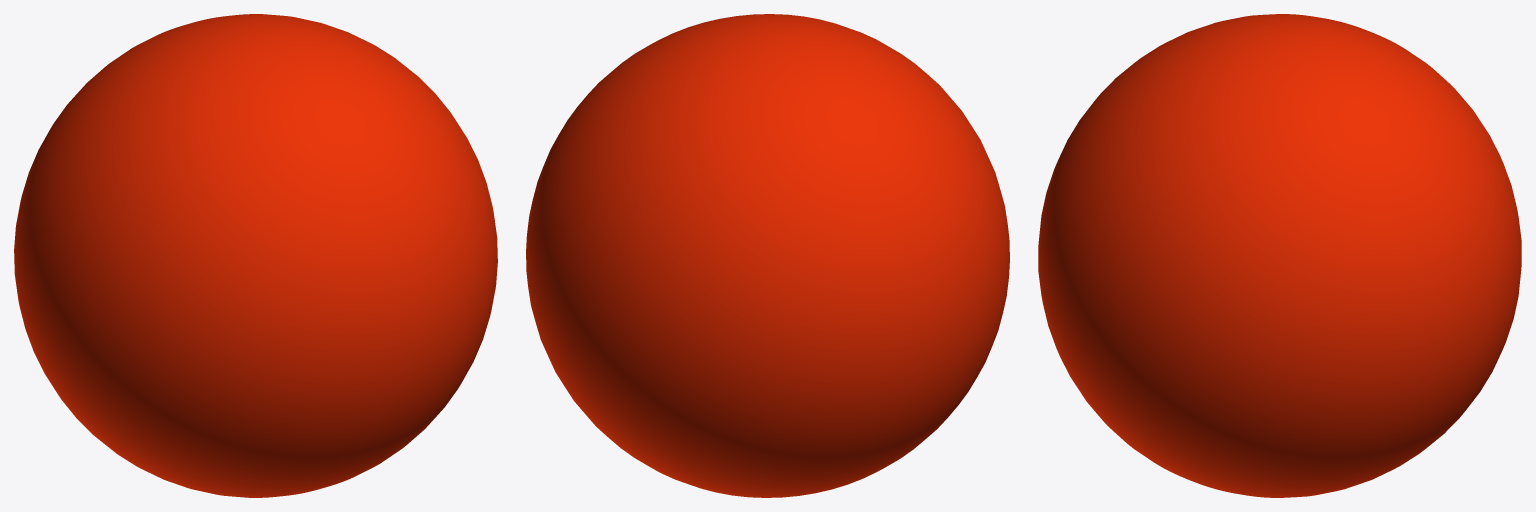
Rendered from mars.glb.
The picture shows the model from 3 angles, left to right: view 1: azimuth 30°, elevation 25°; view 2: azimuth 150°, elevation 25°; view 3: azimuth 270°, elevation 25°; orthographic projection.
Parts seen in each view (by area): view 1: uranus; view 2: uranus; view 3: uranus.
Part boxes in pixels (bbox=[...]): uranus: bbox=[14, 14, 497, 497]; uranus: bbox=[526, 14, 1009, 497]; uranus: bbox=[1038, 14, 1521, 497].
Size of the model in its own units: 2.02 by 2.02 by 2.02.
